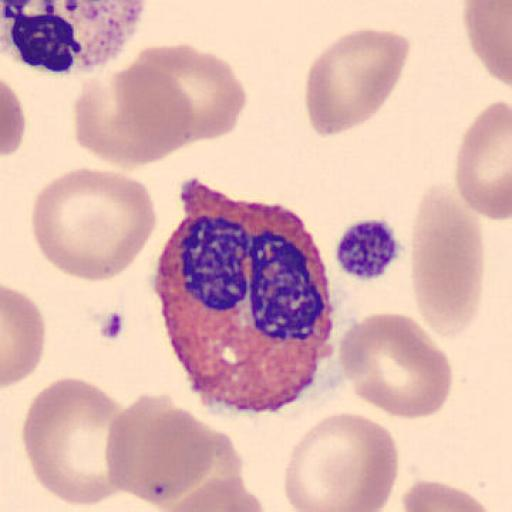Platelet: (332, 216, 403, 282)
RBC: (102, 391, 232, 507), (30, 166, 158, 283), (74, 55, 196, 169), (21, 375, 125, 507), (336, 310, 454, 420), (282, 410, 400, 512), (304, 28, 410, 138), (410, 186, 486, 339), (147, 42, 247, 144), (455, 100, 512, 222), (2, 284, 46, 390), (462, 0, 512, 90), (155, 475, 267, 512), (401, 478, 498, 512), (0, 76, 27, 160)
WBC: (153, 189, 338, 416), (0, 0, 153, 73)
